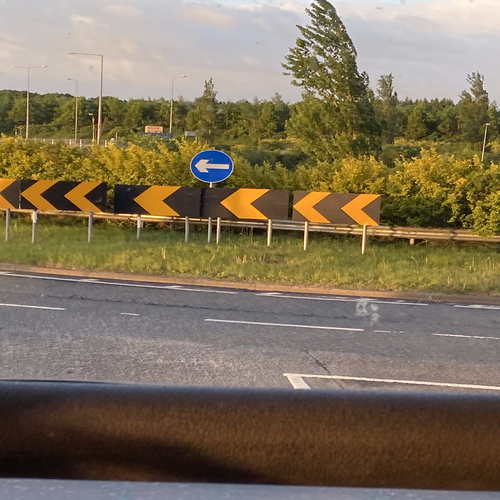Left Turn: (189, 149, 234, 182)
